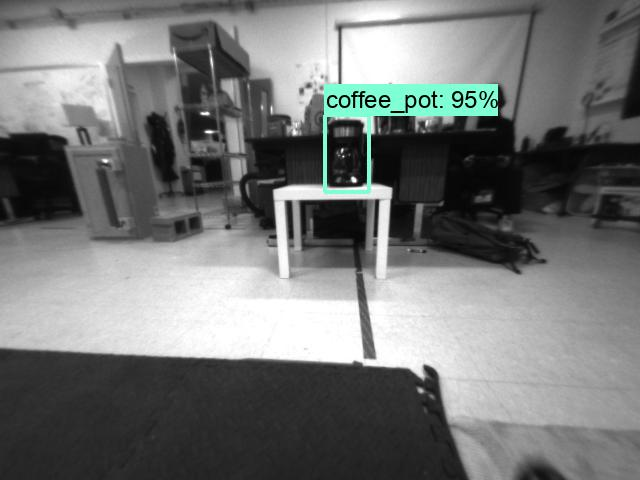coffee_pot: (323, 117, 367, 190)
